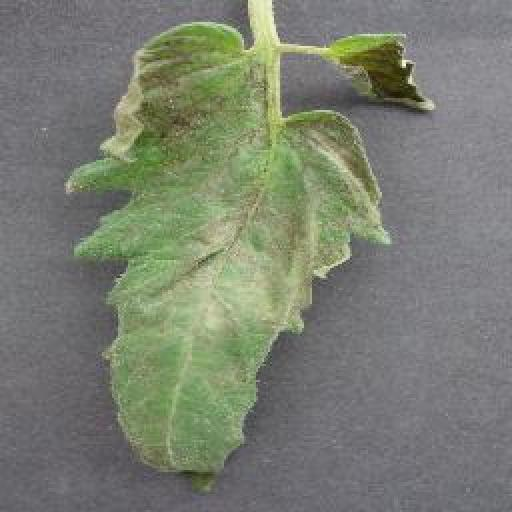disease_tomato: (64, 19, 388, 493), (329, 32, 439, 114)
